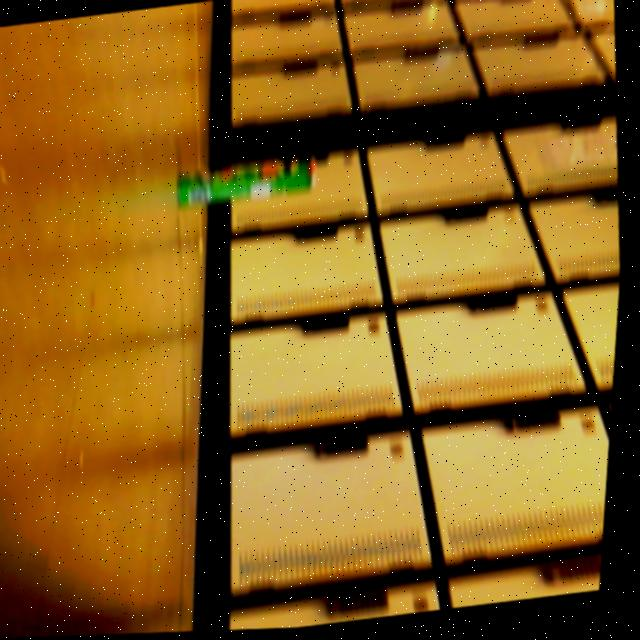greenpringles: (160, 142, 351, 225)
